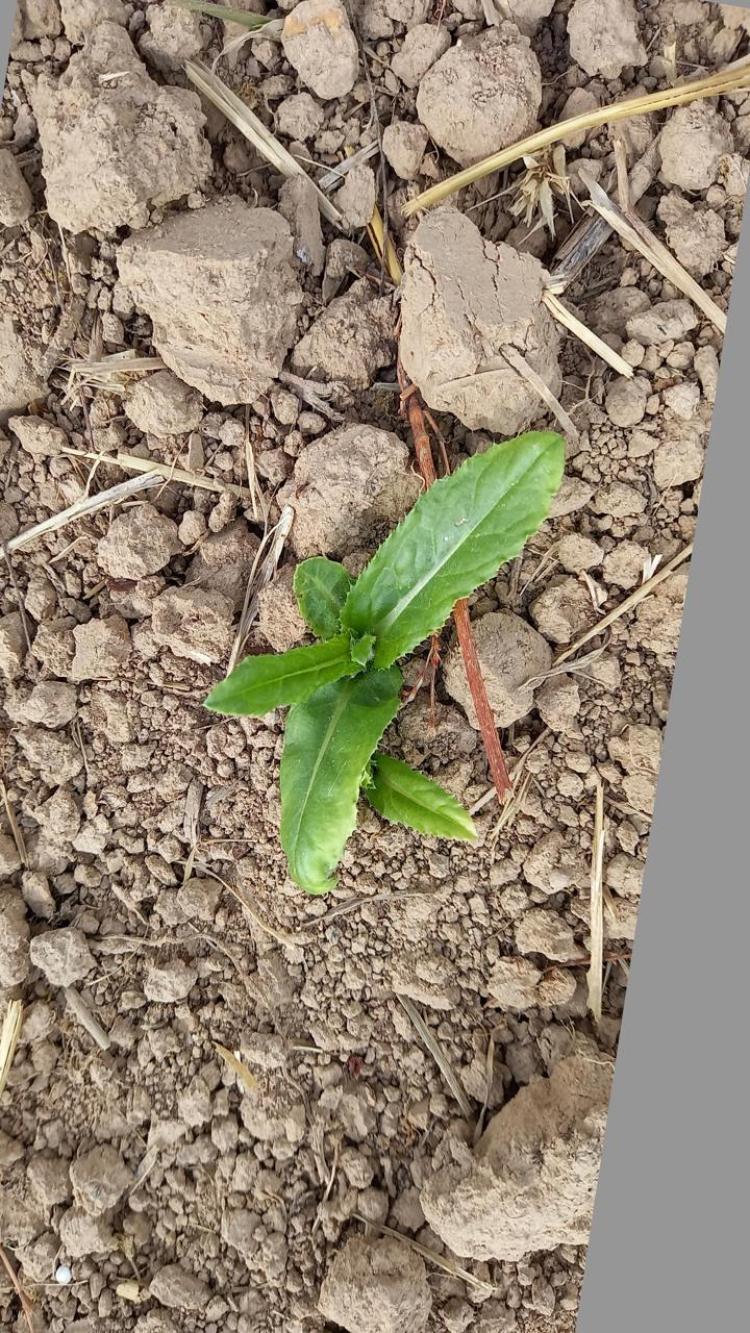bodyak: (210, 442, 556, 885)
